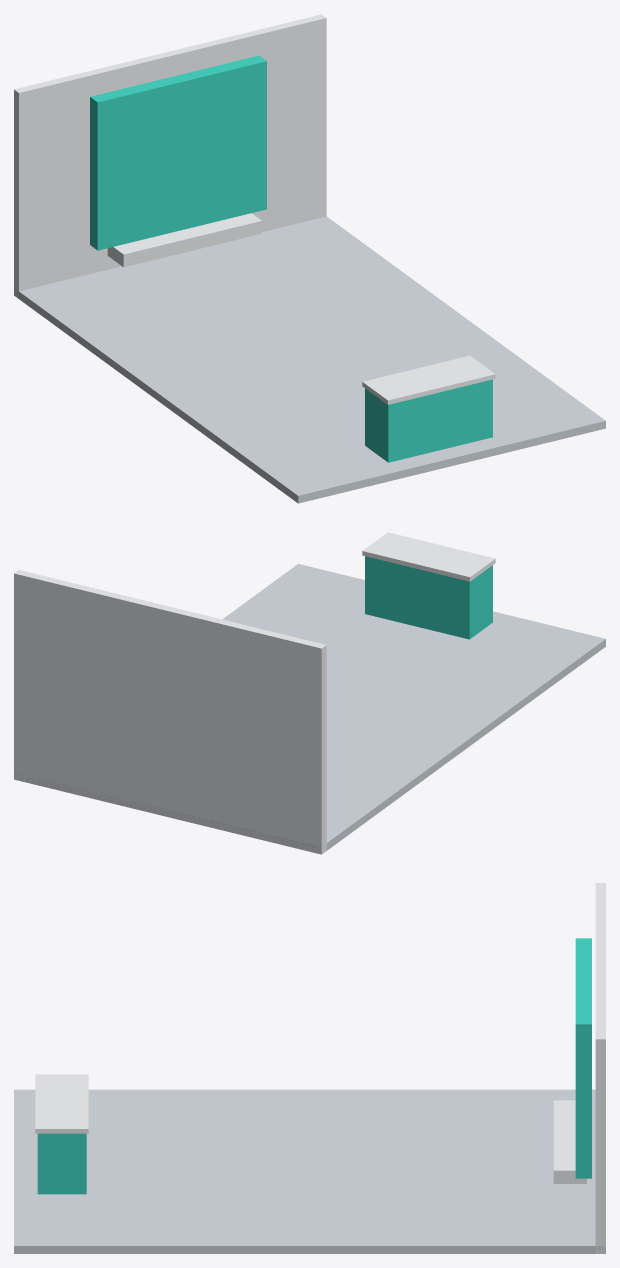
3 renders of one model, top to bottom at view 1: azimuth 30°, elevation 25°; view 2: azimuth 150°, elevation 25°; view 3: azimuth 270°, elevation 25°, orthographic. The views are drawn at different scales.
Parts seen in each view (by area): view 1: Exhibition Booth Concept; view 2: Exhibition Booth Concept; view 3: Exhibition Booth Concept.
Boxes of the visible parts, <box> form: Exhibition Booth Concept: <box>14,14,605,503</box>; Exhibition Booth Concept: <box>14,532,605,854</box>; Exhibition Booth Concept: <box>14,883,605,1253</box>.
Size of the model in its own units: 5 by 3.2 by 8.
